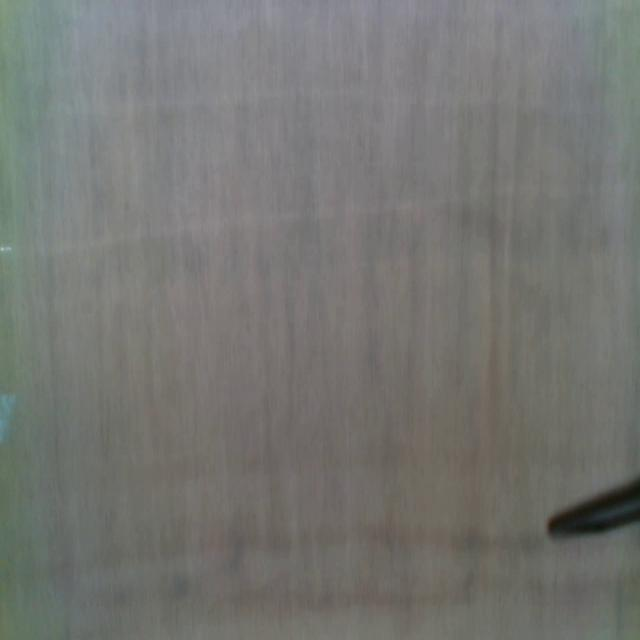color bleeding: (78, 514, 547, 570), (205, 576, 480, 626)
